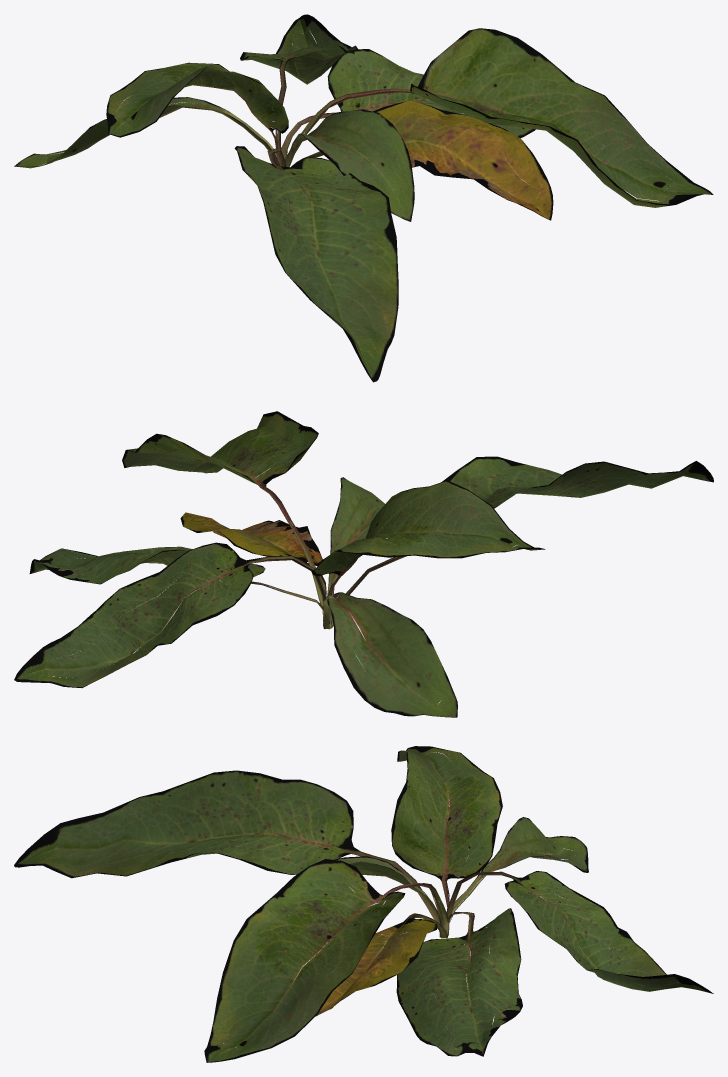
The model's file is weed_plant_02_v1.glb.
The picture shows the model from 3 angles, top to bottom: view 1: azimuth 30°, elevation 25°; view 2: azimuth 150°, elevation 25°; view 3: azimuth 270°, elevation 25°; orthographic projection. The views are drawn at different scales.
Parts seen in each view (by area): view 1: lod0; view 2: lod0; view 3: lod0.
Boxes of the visible parts, bbox=[...] form: lod0: bbox=[14, 14, 713, 382]; lod0: bbox=[14, 411, 713, 717]; lod0: bbox=[14, 746, 713, 1062].
Size of what is drawn, in the model's own units: 0.2194 by 0.0724 by 0.2909.
Materials: 1 (1 with a texture image).
